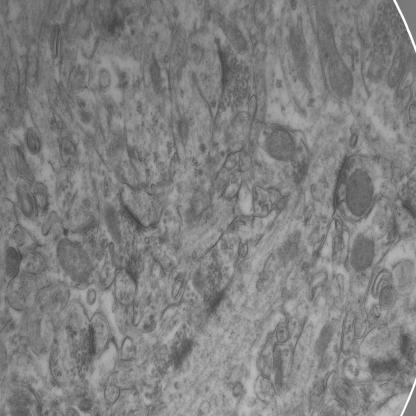mitochondria: (315, 14, 356, 101), (53, 239, 92, 290), (342, 169, 375, 217), (266, 126, 296, 160), (352, 232, 374, 274)
